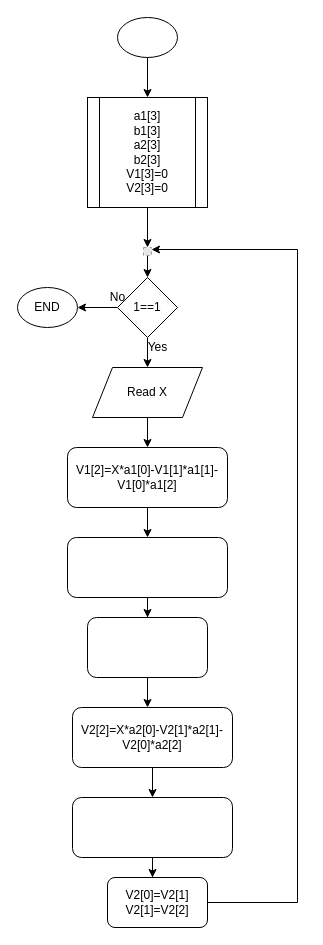
This 323x945 diagram has some shape labels left out. Grey dashed boxes stand in for pictures. The centre of each missing label's shape, as x and y in pixels:
"START" belongs at pixel 147 37.
"V1[0]=V1[1] V1[1]=V1[2] Y=X" belongs at pixel 147 647.
"Y=V1[2]*b1[0]-V1[1]*b1[1]-V1[0]*b1[2]" belongs at pixel 147 567.
"Y=V2[2]*b2[0]-V2[1]*b2[1]-V2[0]*b2[2]" belongs at pixel 152 827.
